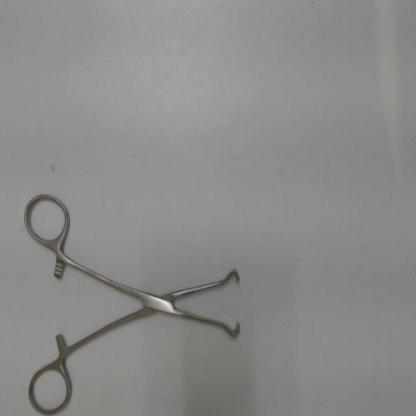Babcock Tissue Forceps: (20, 187, 245, 413)
